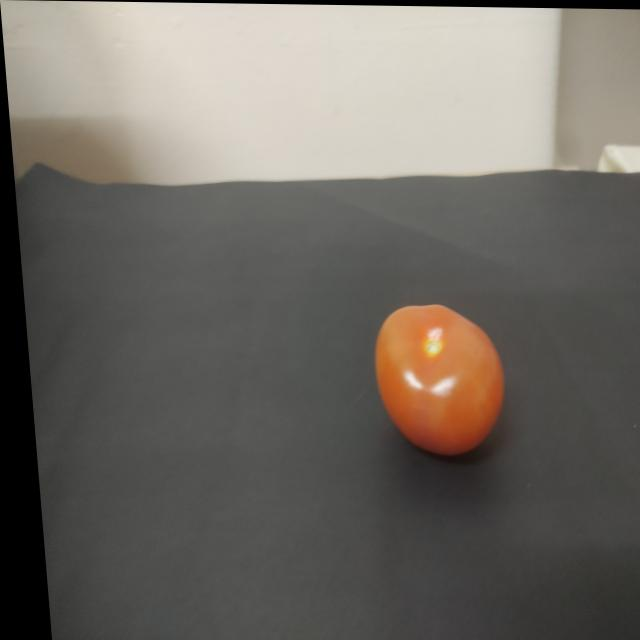sari: (351, 293, 522, 464)
